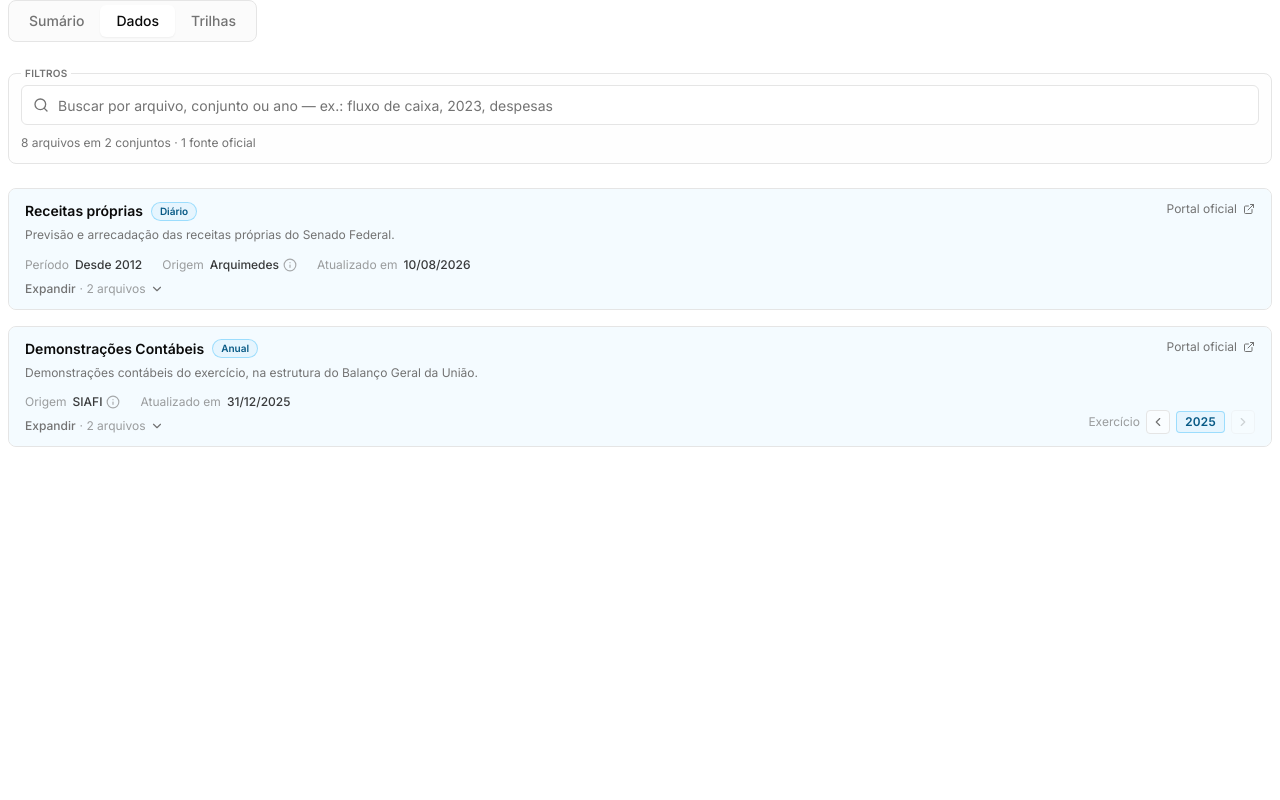
FonteDeDadosView › oferece Ver nos arquivos tabulares e nos demonstrativos contábeis
Expected: the text "8 arquivos em 2 conjuntos · 1 fonte oficial" is shown, [21,135,256,150]
Click the button "Expandir · 2 arquivos" below "Período" at (94,288), box [25,280,164,296]
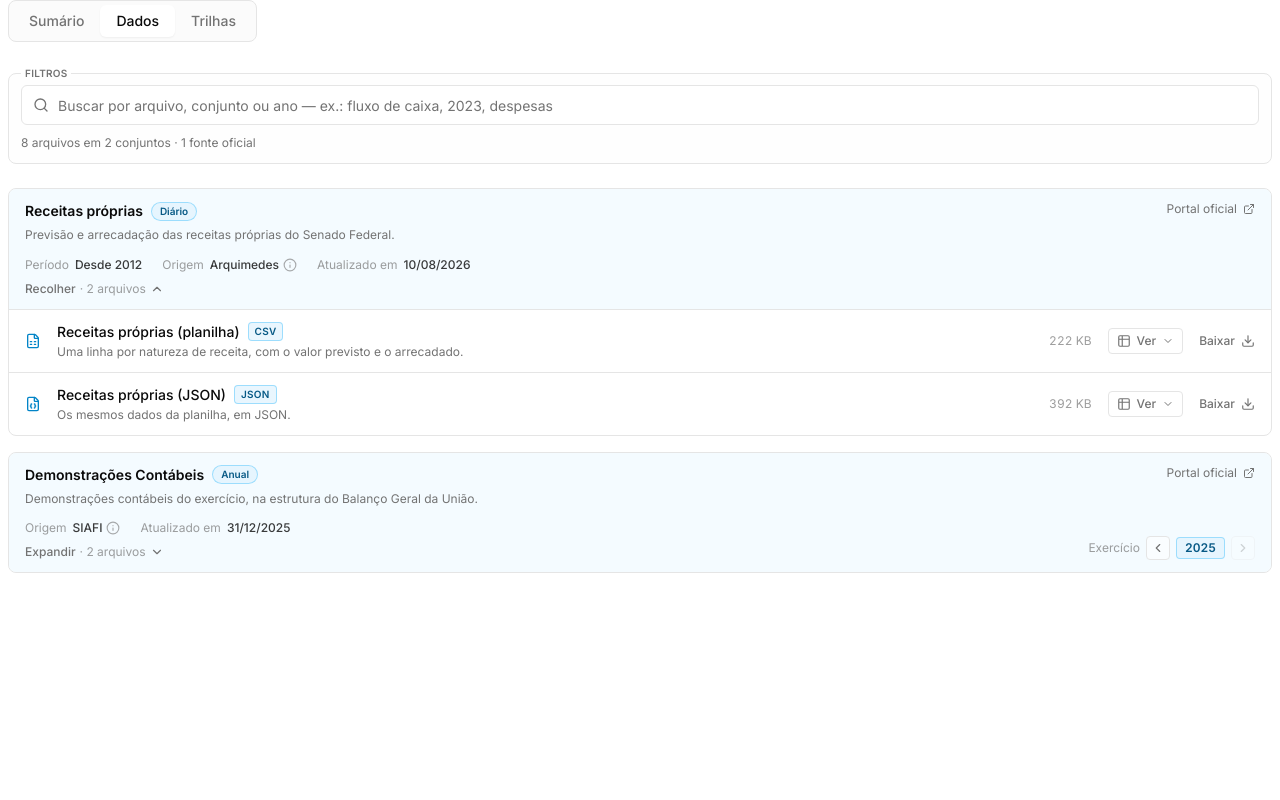
Click the button "Expandir · 2 arquivos" at (94,552), box [25,544,164,560]
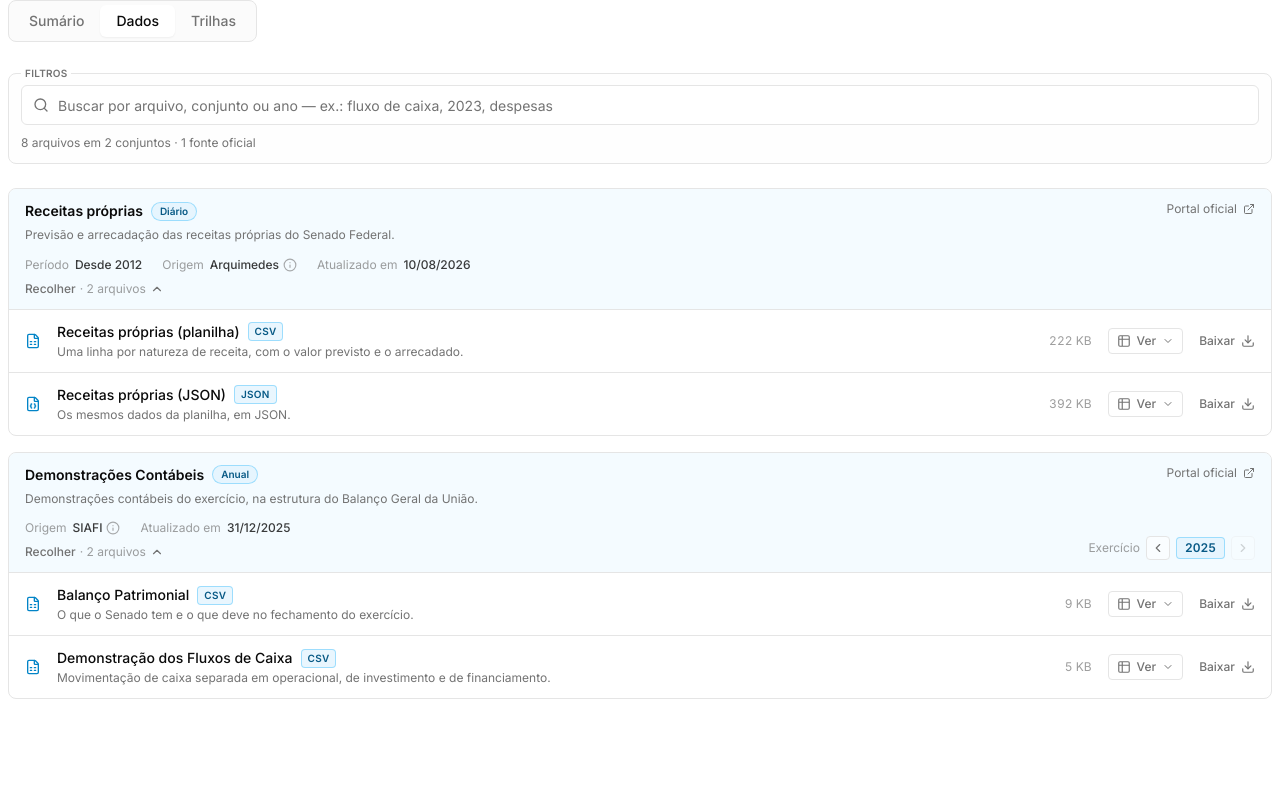
Result: the number of buttons "Ver" is 4 at [1108,328,1183,354]; [1108,390,1183,416]; [1108,591,1183,617]; [1108,654,1183,680]
Result: the link with aria-label "Baixar Balanço Patrimonial" is shown at [1199,596,1255,612]
